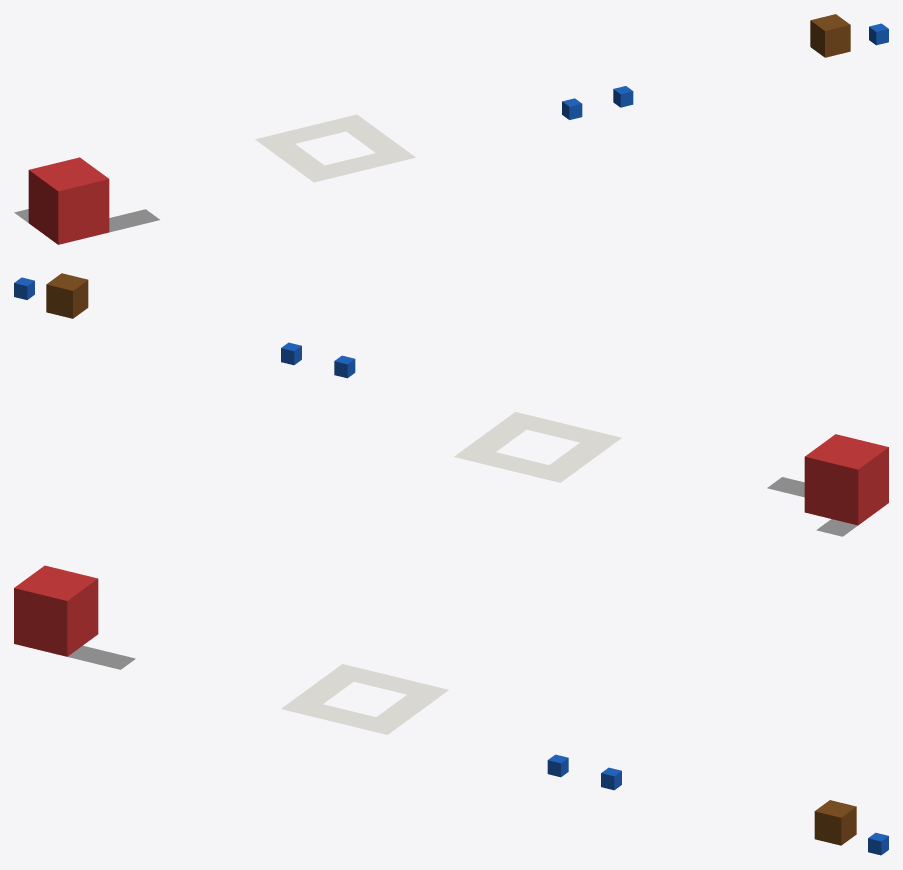
The model's file is structured.dae.
3 views of the same model, one above another, from view 1: azimuth 30°, elevation 25°; view 2: azimuth 150°, elevation 25°; view 3: azimuth 330°, elevation 25° (orthographic). The views are drawn at different scales.
Visible parts, largest first — view 1: Muro_1, IngeTrazo_model, Mesa_con_silla; view 2: Muro_1, IngeTrazo_model, Mesa_con_silla; view 3: Muro_1, IngeTrazo_model, Mesa_con_silla.
Boxes of the visible parts, x1,y1,x2,y2 form: Muro_1: [28, 157, 109, 244]; IngeTrazo_model: [14, 114, 415, 232]; Mesa_con_silla: [810, 14, 850, 57]; Muro_1: [804, 434, 888, 525]; IngeTrazo_model: [454, 412, 857, 536]; Mesa_con_silla: [46, 273, 88, 318]; Muro_1: [14, 565, 98, 656]; IngeTrazo_model: [67, 645, 448, 734]; Mesa_con_silla: [814, 800, 856, 845].
Size of the model in its own units: 32.5 by 4 by 2.
